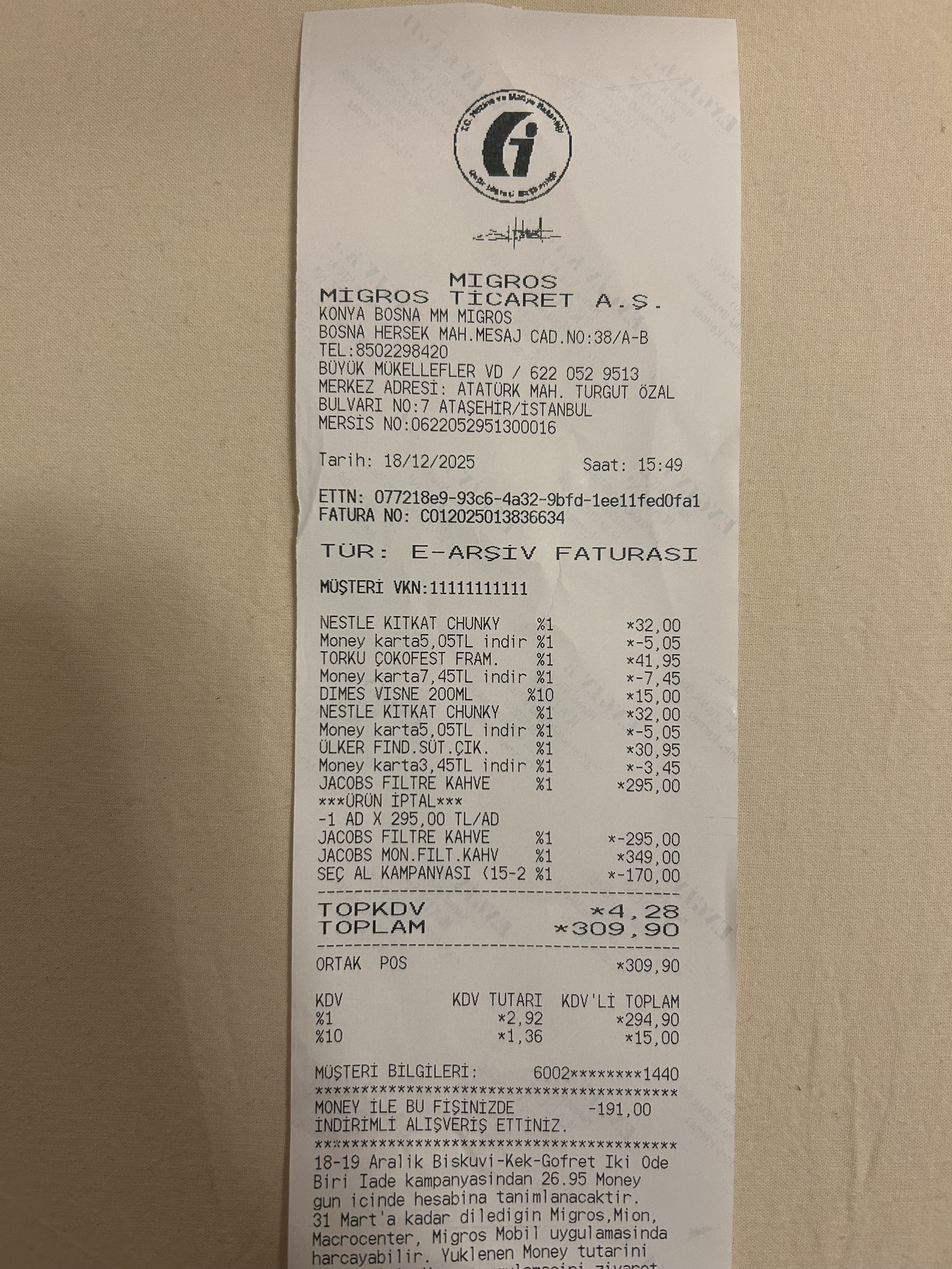date: (382, 448, 482, 477)
price: (565, 917, 682, 943)
workplace: (312, 266, 672, 346)
